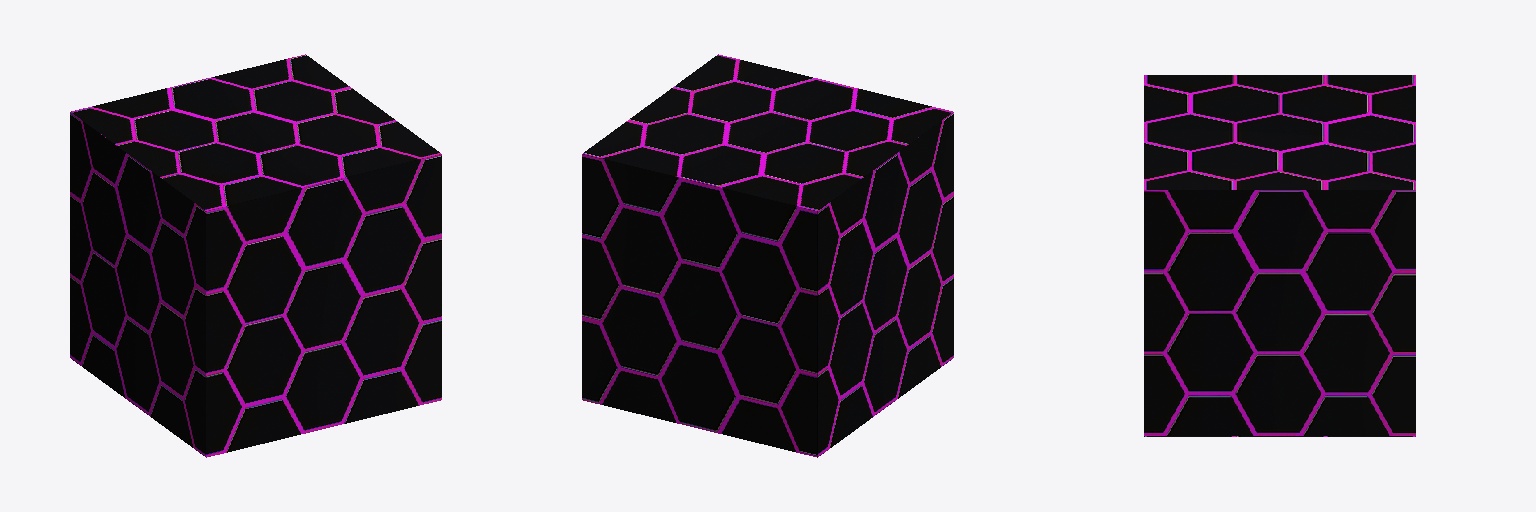
The picture shows the model from 3 angles: view 1: azimuth 30°, elevation 25°; view 2: azimuth 150°, elevation 25°; view 3: azimuth 270°, elevation 25°; orthographic projection.
Visible parts, largest first — view 1: pCube1; view 2: pCube1; view 3: pCube1.
Boxes of the visible parts, box(x1,y1,x2,y2) form: pCube1: box(70, 54, 441, 457); pCube1: box(582, 54, 953, 457); pCube1: box(1144, 75, 1415, 436).
Bounding box in the file's own units: 1 × 1 × 1.
1 materials, 1 textured.